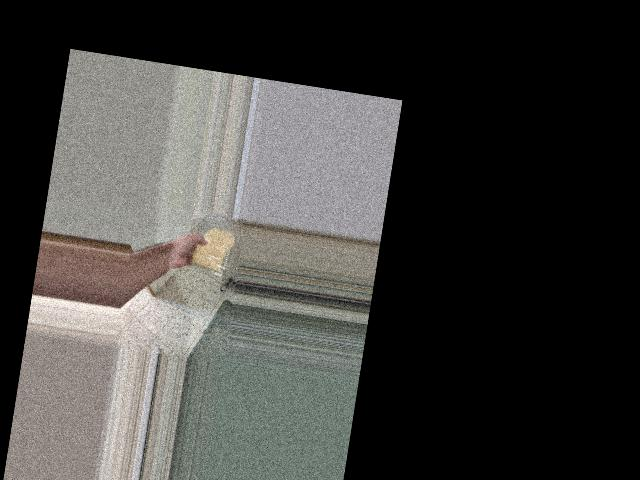cheese: (188, 223, 240, 278)
